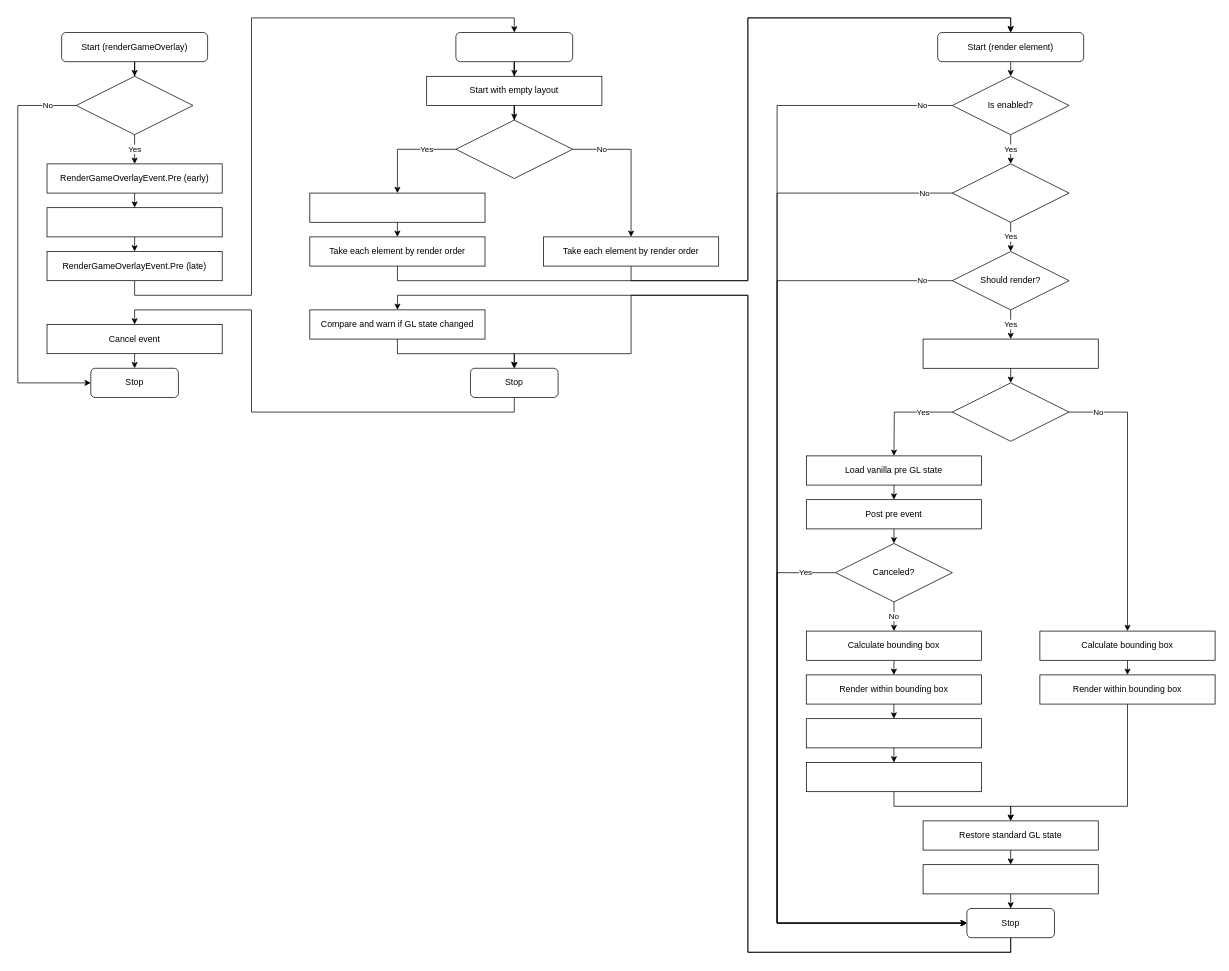
This 1229x971 diagram has some shape labels left out. Here are the shapes that lost their labels. From the top down, the centre of each, then its label:
[514,47]: Start (render HUD)
[134,105]: Is mod enabled?
[514,148]: Is debug mode?
[397,207]: Record GL state to snapshot
[1010,192]: Is compatible?
[134,222]: Reset left_height and right_height to 0
[1010,353]: Start profiler section
[1010,411]: Replace vanilla?
[893,733]: Load vanilla post GL state
[894,777]: Post post event
[1010,879]: End profiler section
